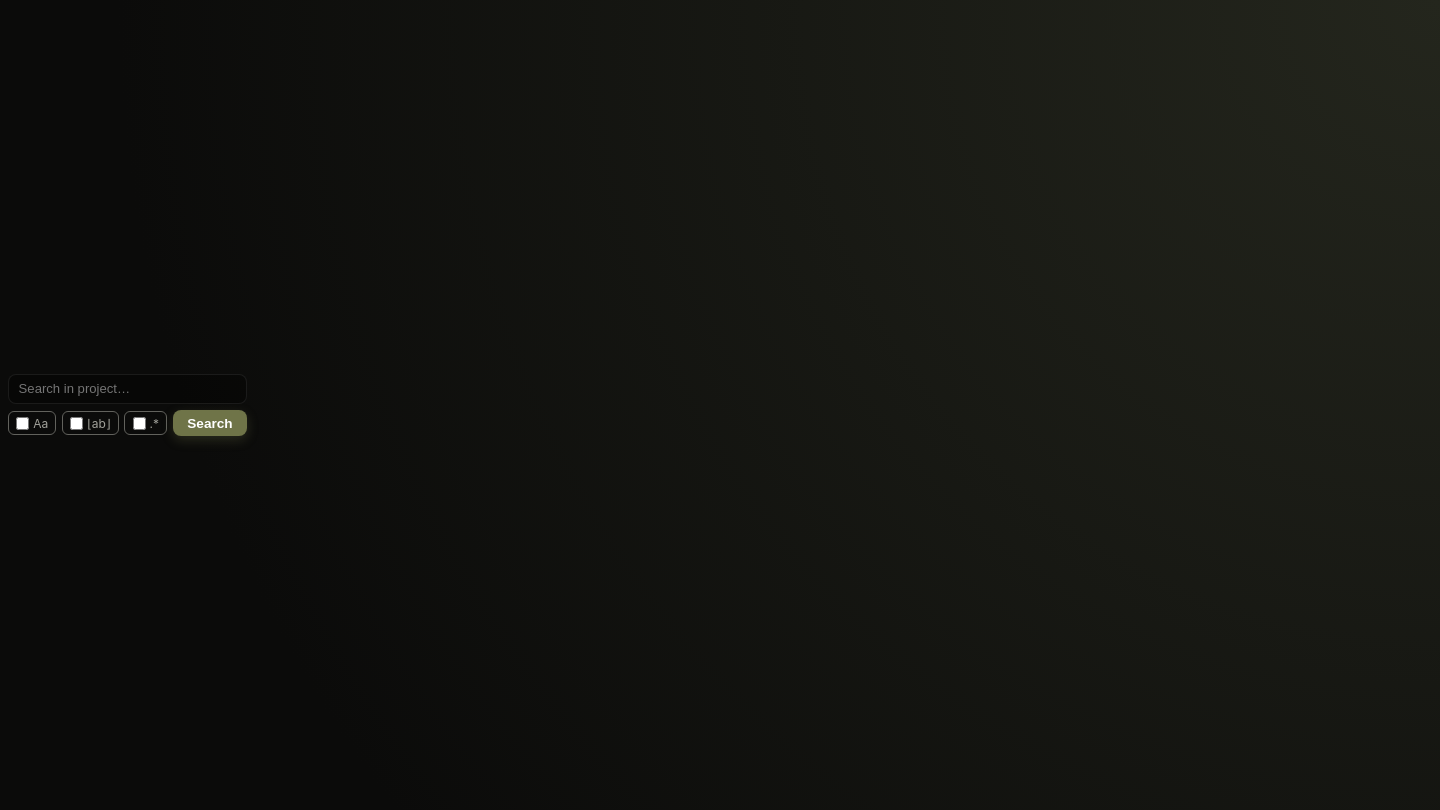
Scenario: SearchPanel › passes the option toggles to the backend
This screenshot has width=1440, height=810.
In the field named "Search query": (128, 389) [8, 374, 247, 404], type "ne.dle"
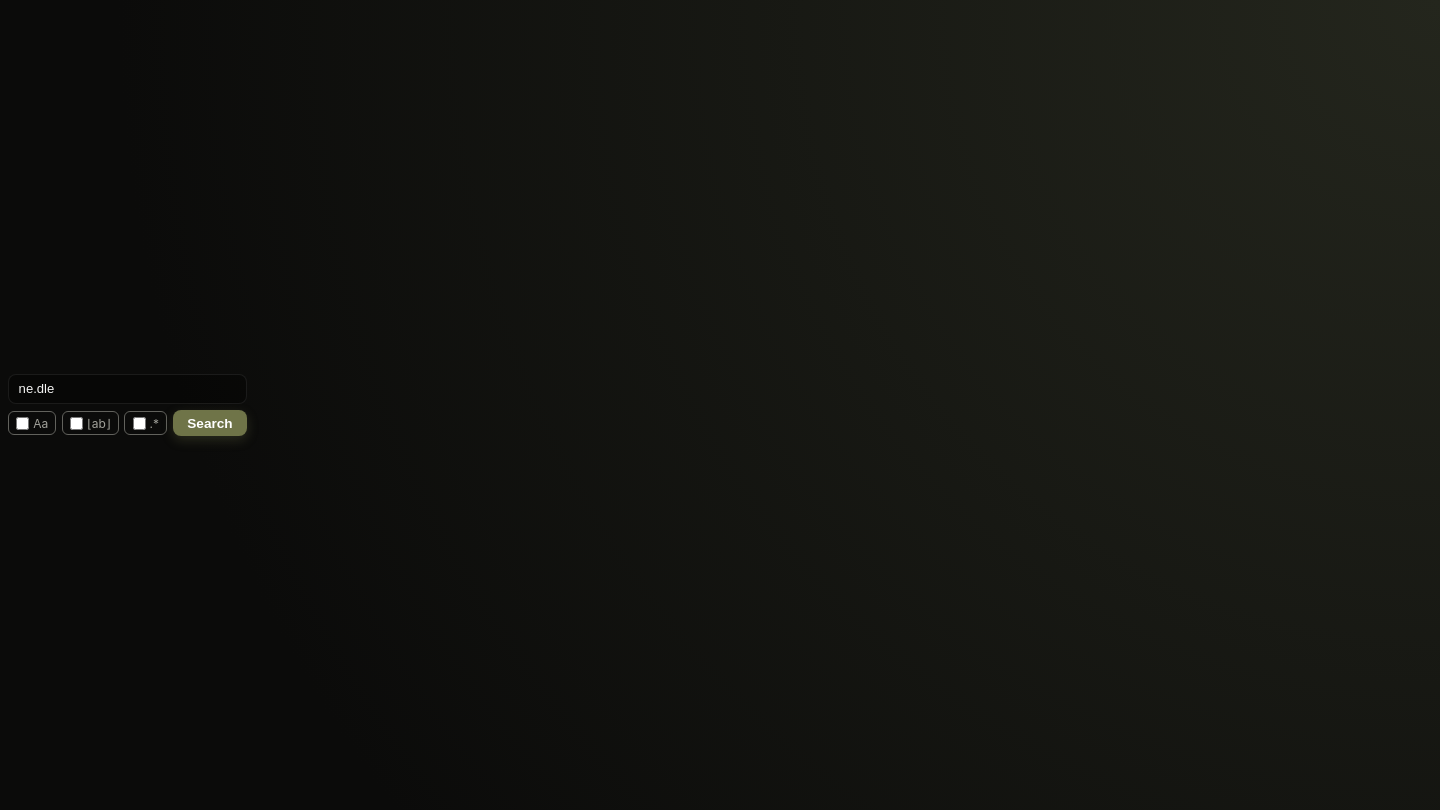
Click the checkbox named "Case sensitive": click(23, 423) [16, 417, 29, 430]
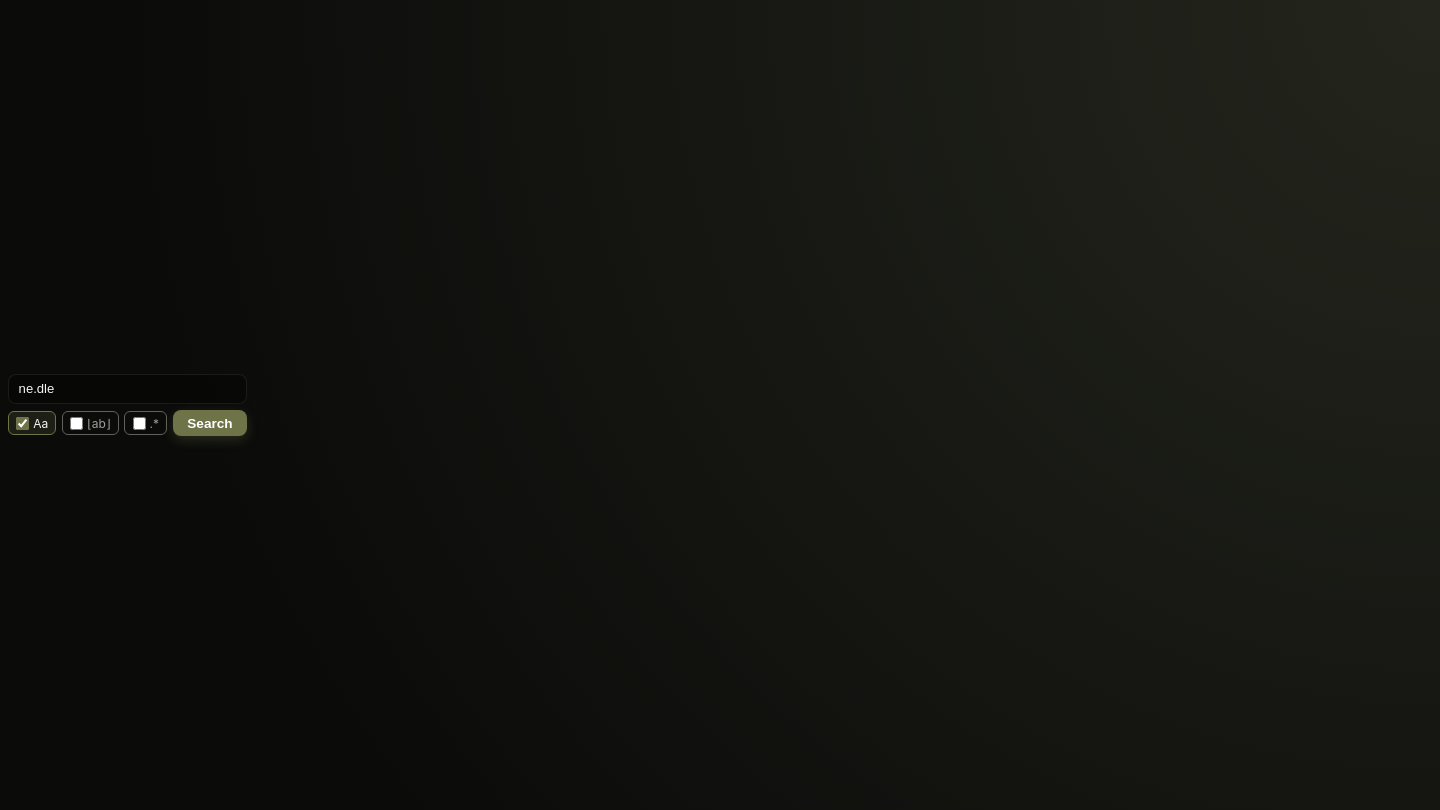
Click the checkbox named "Regular expression": click(139, 423) [133, 417, 146, 430]
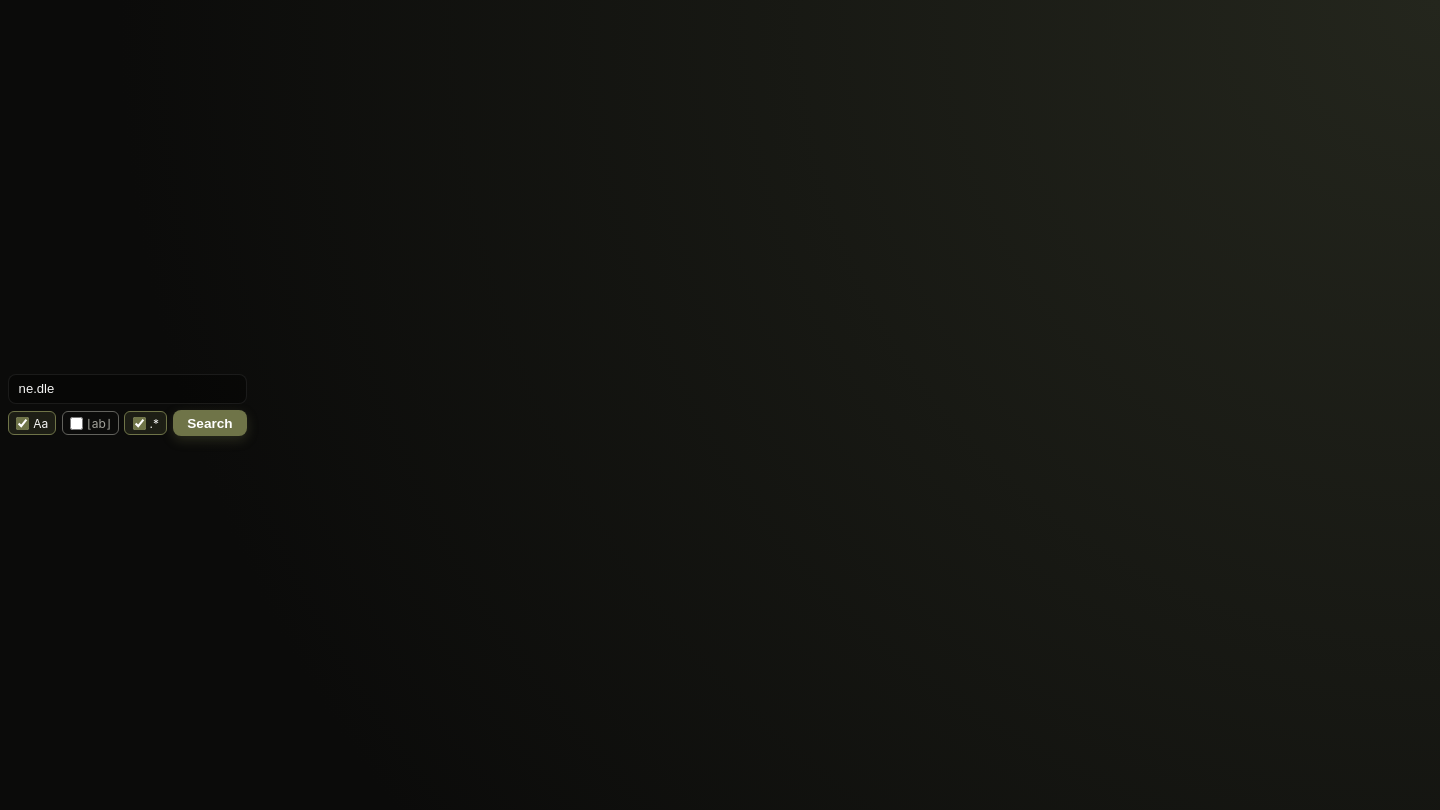
Click the button "Search": click(210, 423) [173, 410, 247, 436]
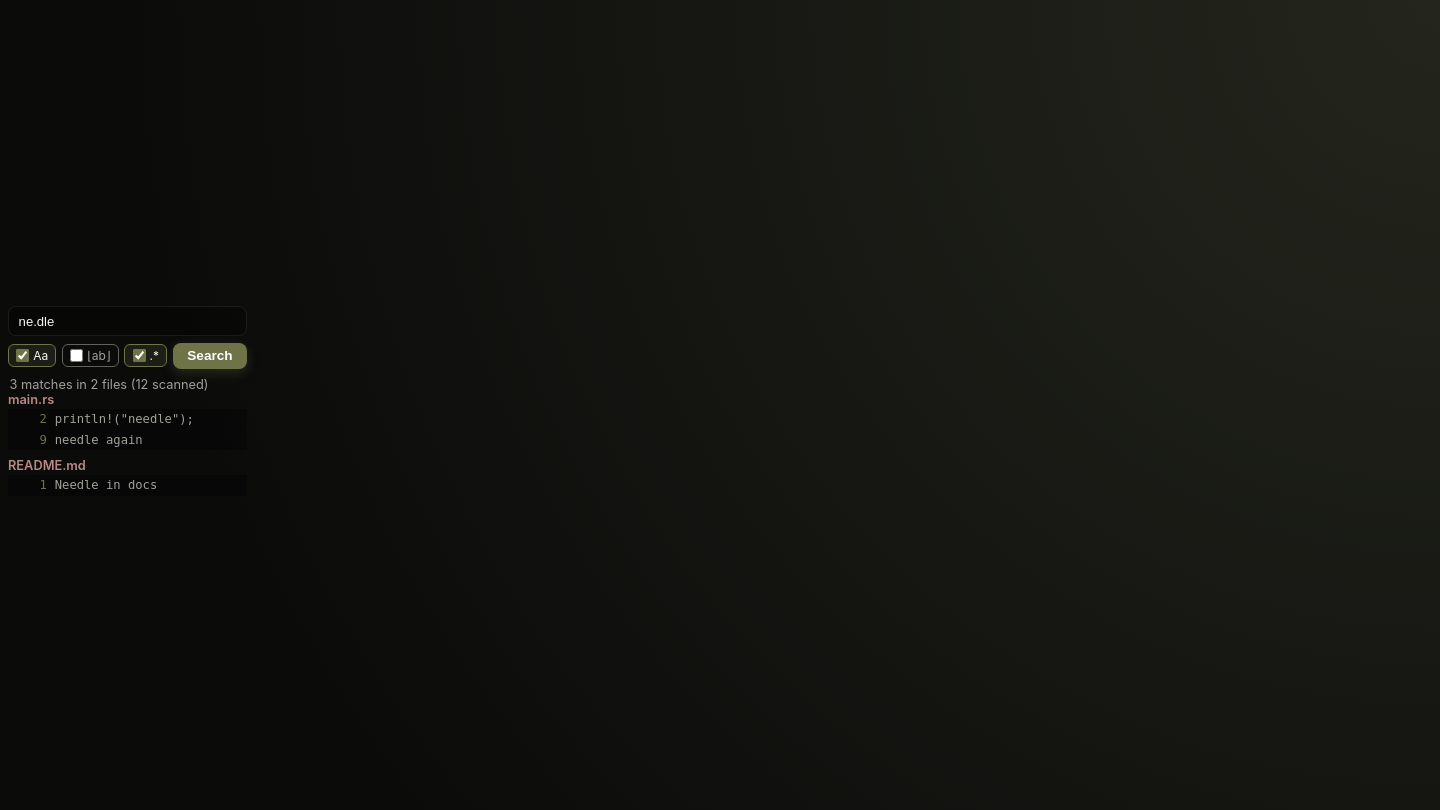
Now the text "main.rs" is shown, box [8, 392, 54, 407]
